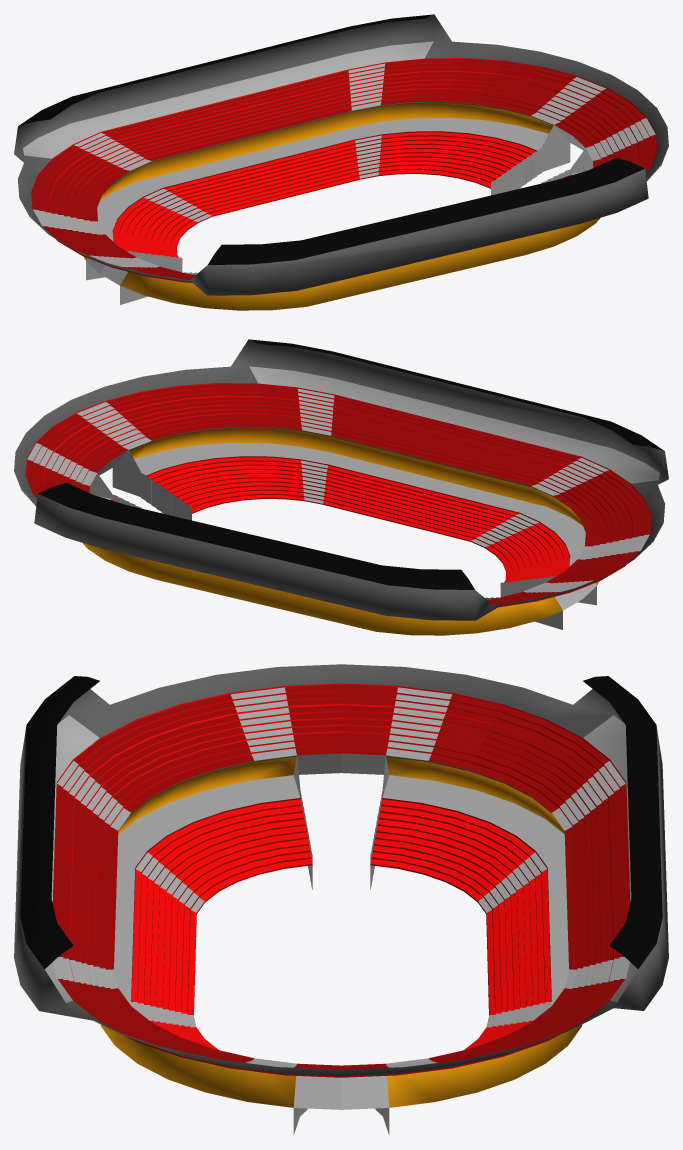
File: ArrowHead_Stadium.fbx
3 views of the same model, one above another, from view 1: azimuth 30°, elevation 25°; view 2: azimuth 150°, elevation 25°; view 3: azimuth 270°, elevation 25° (orthographic). The views are drawn at different scales.
Parts seen in each view (by area): view 1: Stadium; view 2: Stadium; view 3: Stadium.
Boxes of the visible parts, x1,y1,x2,y2 form: Stadium: [14, 14, 668, 310]; Stadium: [14, 339, 668, 635]; Stadium: [14, 664, 668, 1134].
Bounding box in the file's own units: 54062 × 10780 × 36914.
